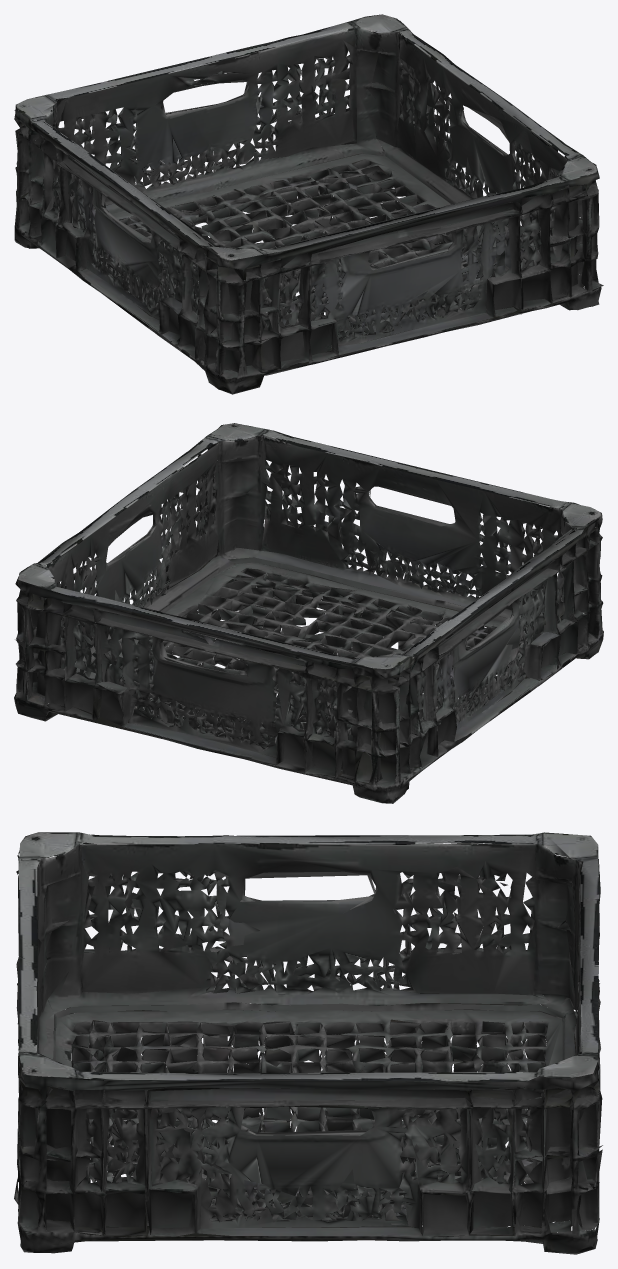
Rendered from prop-tray.glb.
3 views of the same model, one above another, from view 1: azimuth 30°, elevation 25°; view 2: azimuth 150°, elevation 25°; view 3: azimuth 270°, elevation 25° (orthographic). The views are drawn at different scales.
Parts seen in each view (by area): view 1: Mesh_0; view 2: Mesh_0; view 3: Mesh_0.
Boxes of the visible parts, box(x1,y1,x2,y2) form: Mesh_0: box(14, 14, 603, 394); Mesh_0: box(14, 423, 603, 803); Mesh_0: box(14, 832, 602, 1254).
Size of the model in its own units: 0.9971 by 0.3455 by 1.
1 material, 1 textured.
